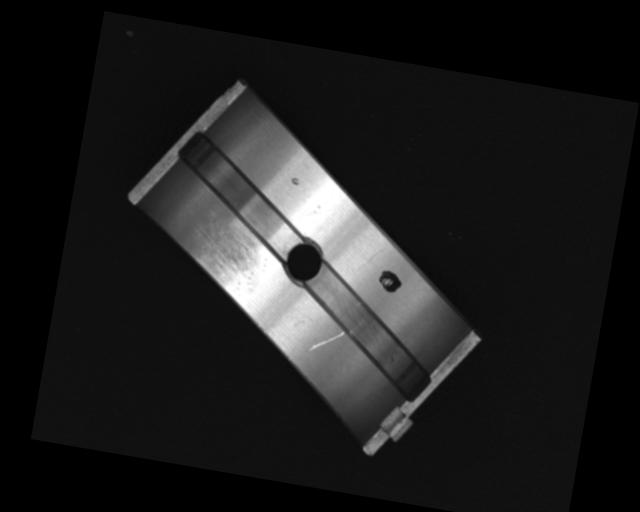blot: (376, 268, 404, 296)
bruise: (290, 176, 301, 186)
gap: (288, 263, 448, 407), (164, 128, 315, 256)
hole: (279, 234, 326, 287)
nick: (307, 324, 345, 357), (358, 241, 385, 277)
scratch: (184, 217, 271, 304)
